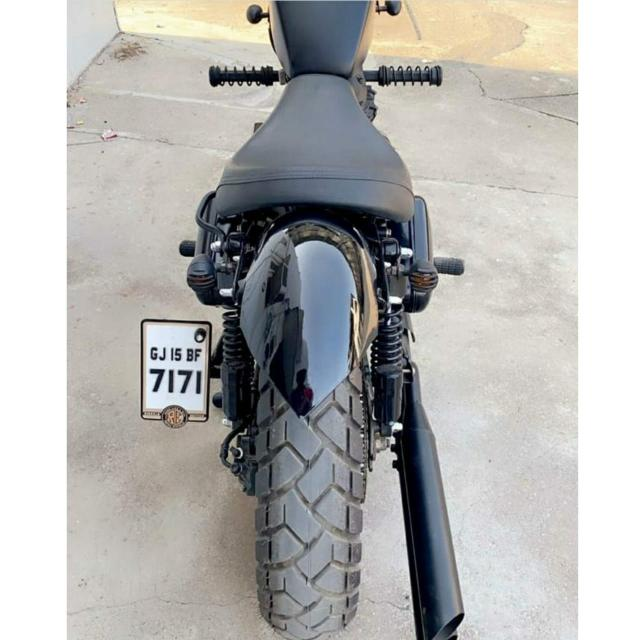number plate: (140, 318, 212, 424)
